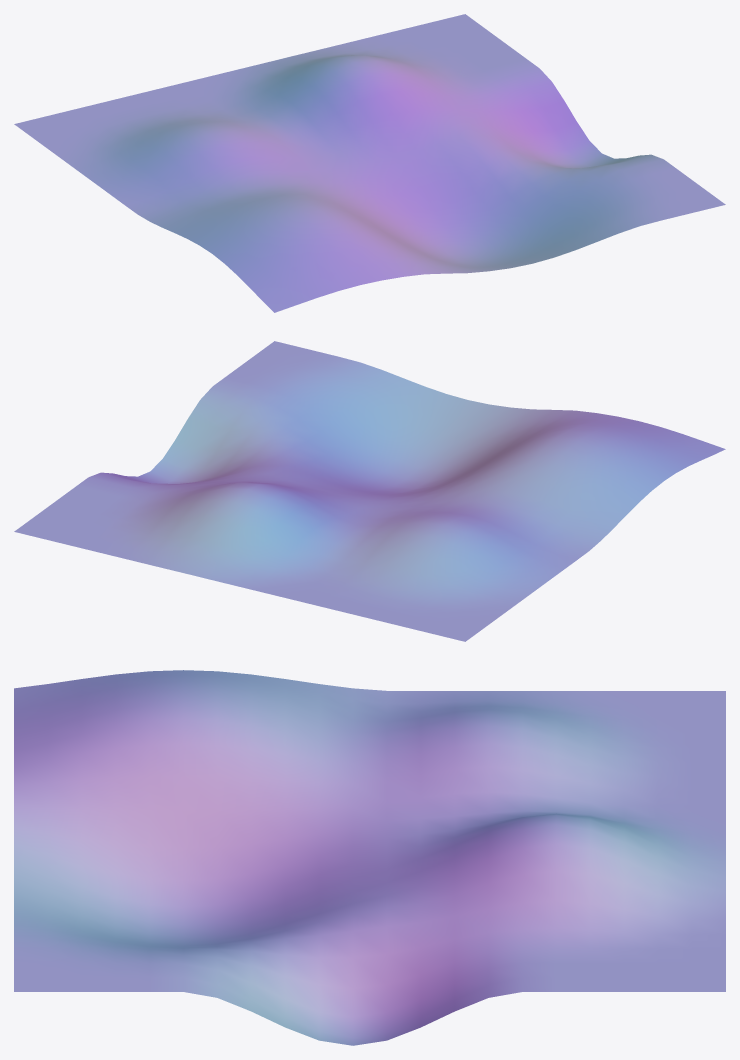
3 views of the same model, one above another, from view 1: azimuth 30°, elevation 25°; view 2: azimuth 150°, elevation 25°; view 3: azimuth 270°, elevation 25° (orthographic). The views are drawn at different scales.
Visible parts, largest first — view 1: Plane; view 2: Plane; view 3: Plane.
Boxes of the visible parts, x1=… form: Plane: x1=14, y1=14, x2=725, y2=312; Plane: x1=14, y1=341, x2=725, y2=641; Plane: x1=14, y1=670, x2=725, y2=1045.
Size of the model in its own units: 600 by 107 by 600.
